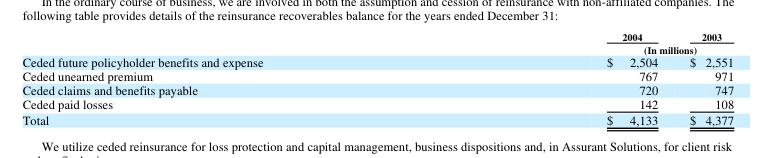table: (21, 29, 733, 127)
table column: (21, 29, 434, 127), (434, 29, 673, 127), (673, 29, 733, 127)
table column header: (21, 29, 733, 54)
table row: (21, 111, 733, 127), (21, 96, 733, 111), (21, 54, 733, 68), (21, 68, 733, 82), (21, 82, 733, 96), (21, 29, 733, 42), (21, 42, 733, 54)
table spanning cell: (434, 42, 733, 54)
